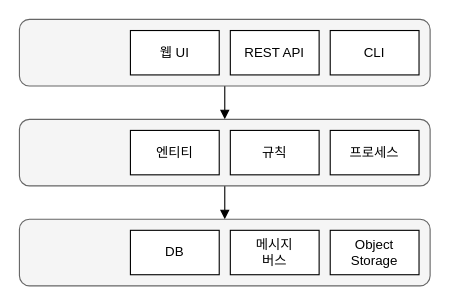
This 450x305 diagram has some shape labels left out. The box of each missing label's shape, as (x1, y1, x2, y2) in pixels:
데이터 접근 계층: (18, 218, 430, 286)
비즈니스 로직 계층: (18, 118, 430, 186)
프레젠테이션 계층: (18, 18, 430, 86)
